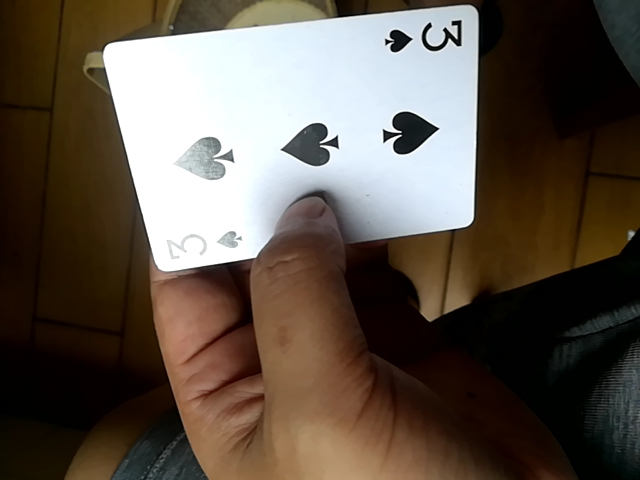ht 3: (107, 2, 484, 277)
